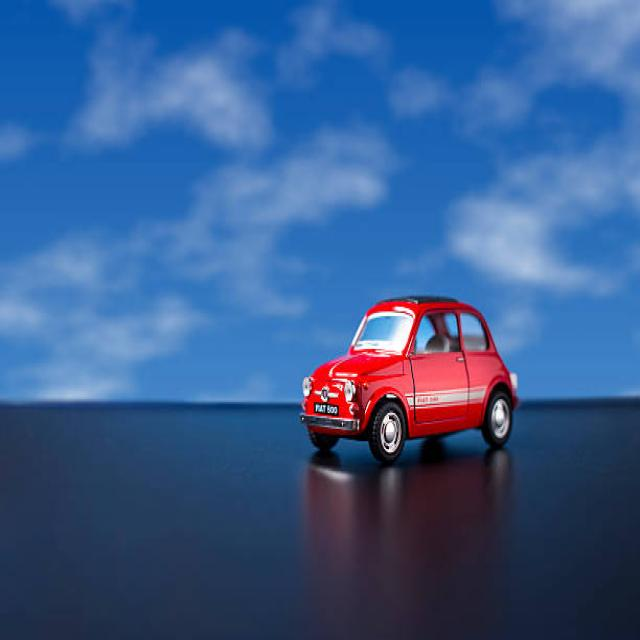Car: (299, 294, 519, 465)
